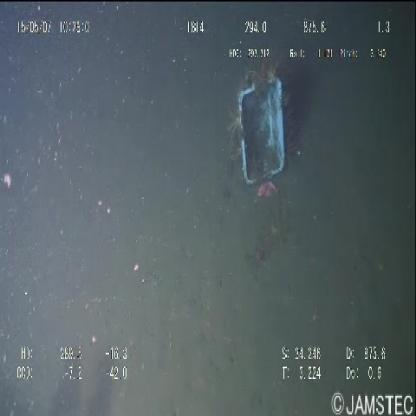Rác: (233, 60, 287, 196)
